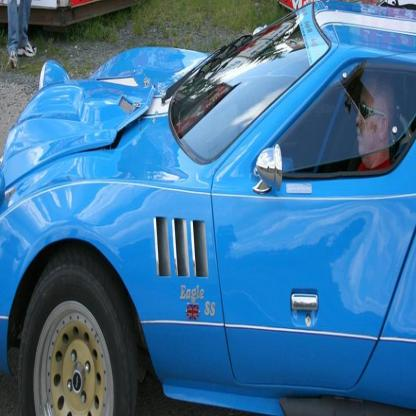Car: (1, 2, 416, 416)
